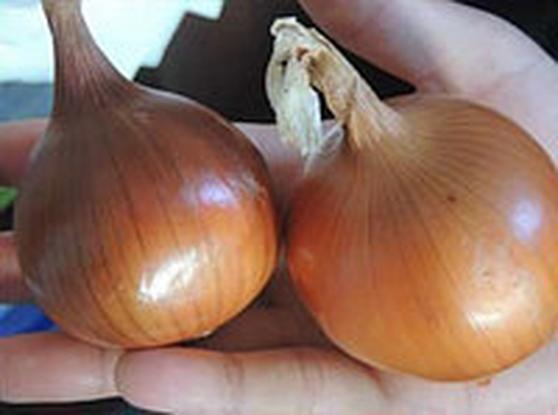onion: (287, 71, 558, 396), (12, 79, 289, 348)
